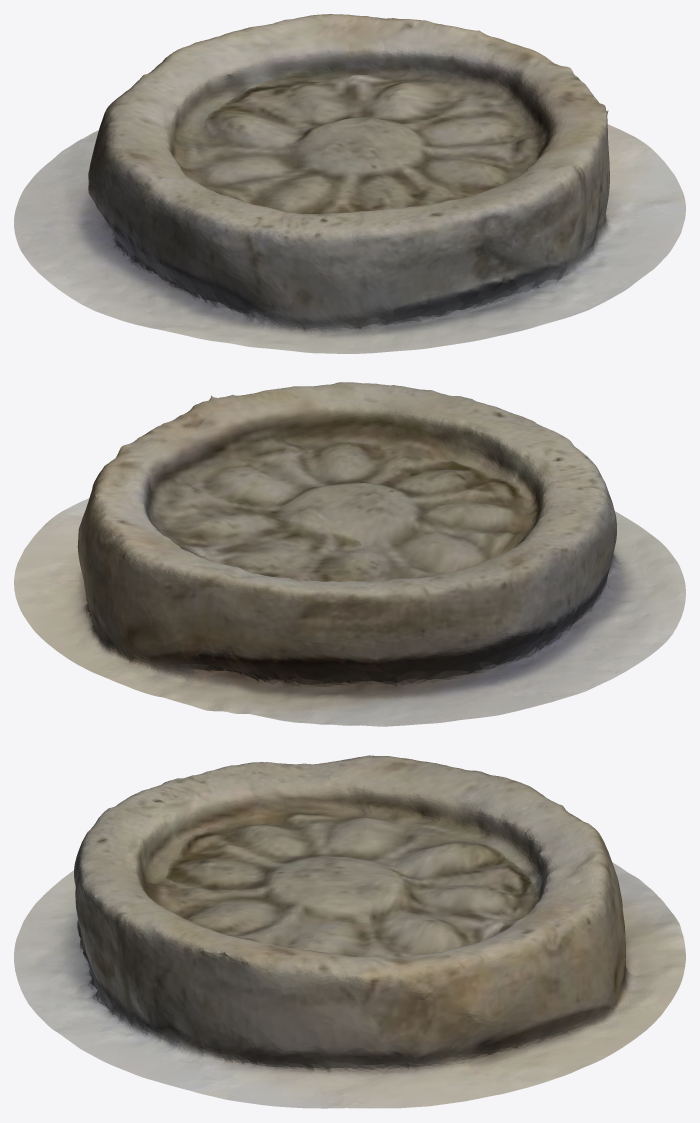
The model's file is Omusihaijikawara.glb.
3 renders of one model, top to bottom at view 1: azimuth 30°, elevation 25°; view 2: azimuth 150°, elevation 25°; view 3: azimuth 270°, elevation 25°, orthographic. The views are drawn at different scales.
Parts seen in each view (by area): view 1: mesh; view 2: mesh; view 3: mesh.
Part boxes in pixels (x1=…): mesh: x1=14, y1=14, x2=685, y2=353; mesh: x1=14, y1=382, x2=685, y2=726; mesh: x1=14, y1=755, x2=685, y2=1108.
Bounding box in the file's own units: 0.2442 × 0.0418 × 0.2289.
1 material, 1 textured.
